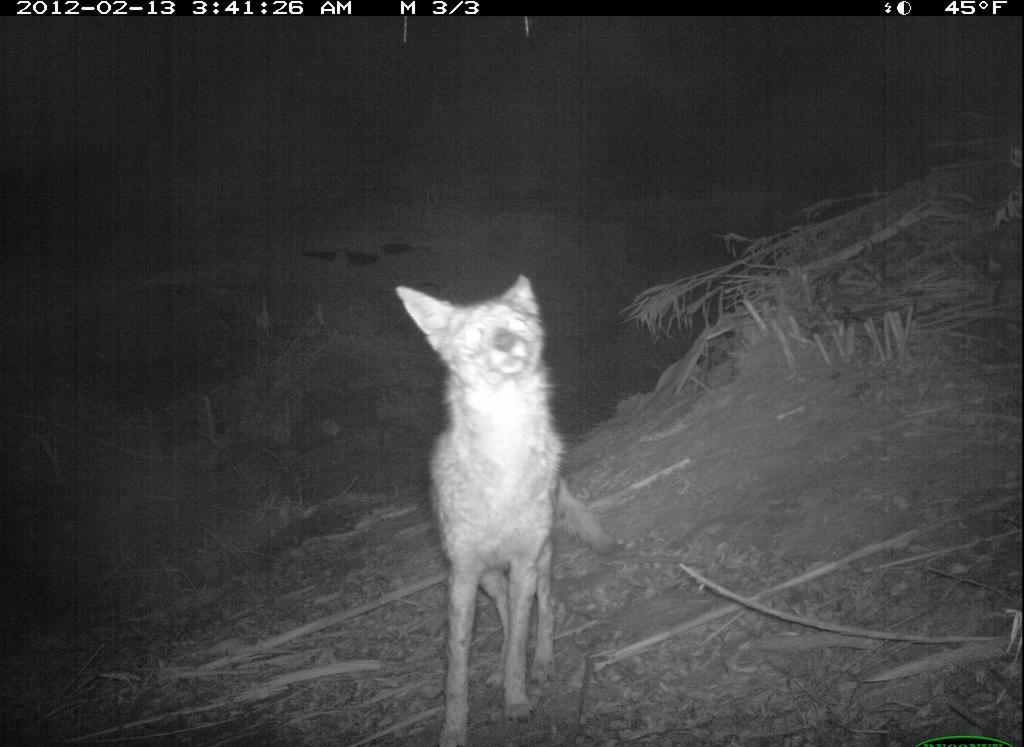coyote: (388, 268, 612, 747)
